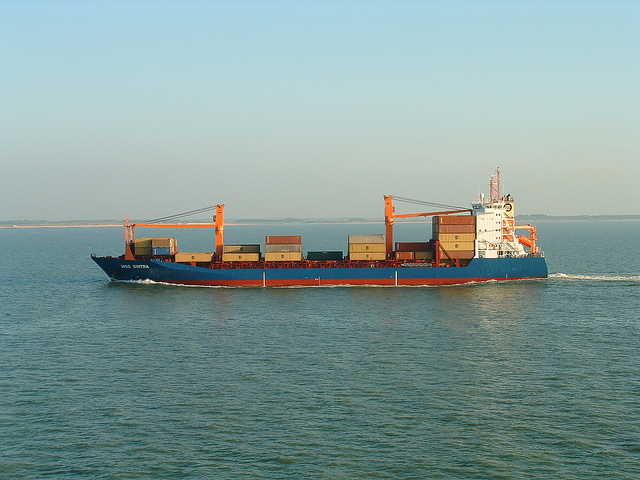container_ship: (92, 179, 550, 288)
